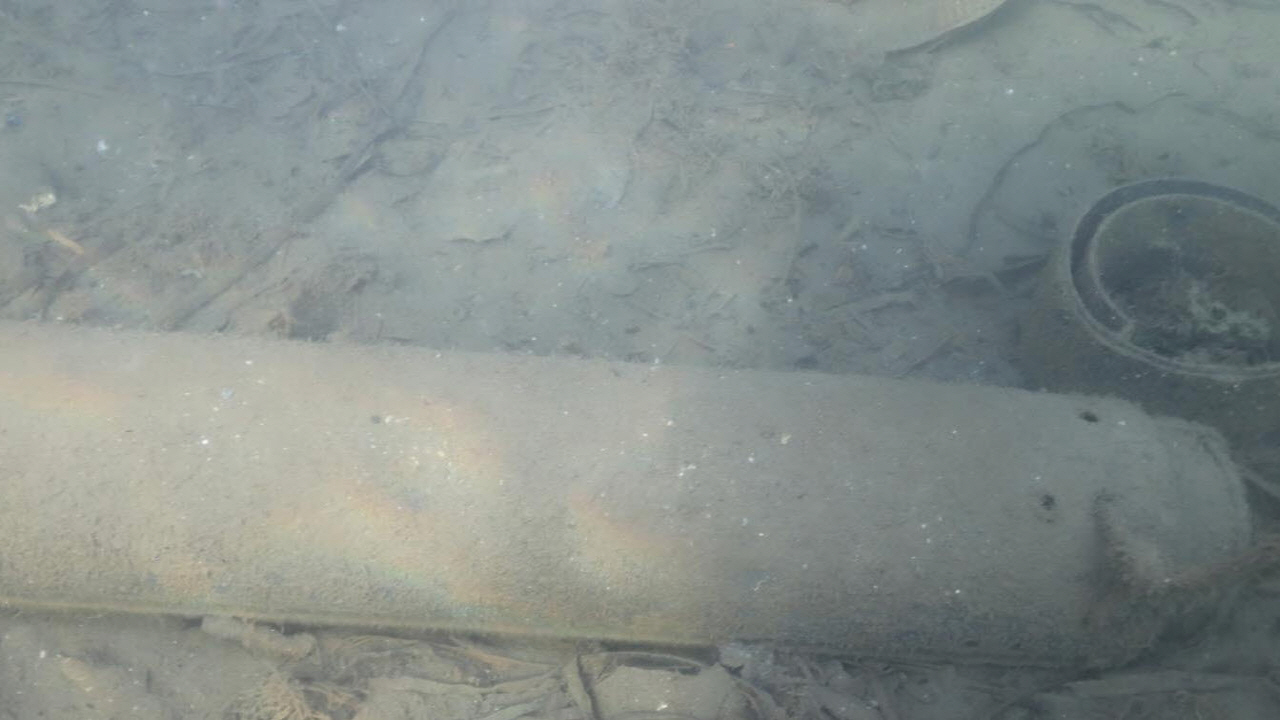eel fish trap: (0, 315, 1246, 666)
